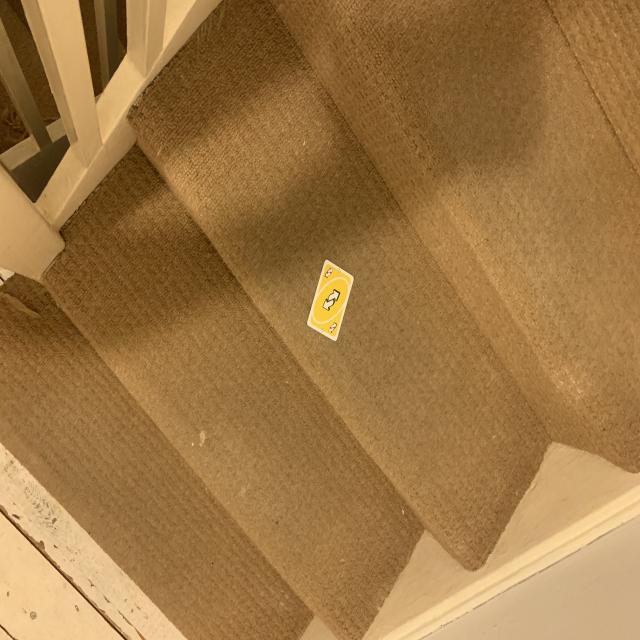lyellowrevers-20: (324, 265, 334, 281)
